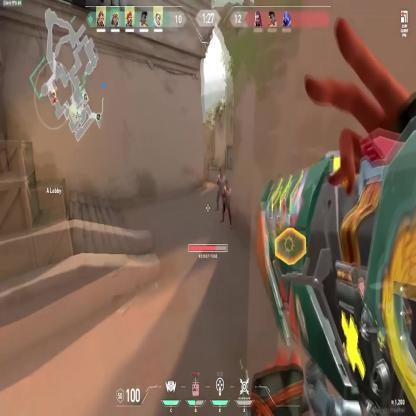enemy: (221, 177, 232, 228)
enemy_head: (225, 180, 228, 188)
